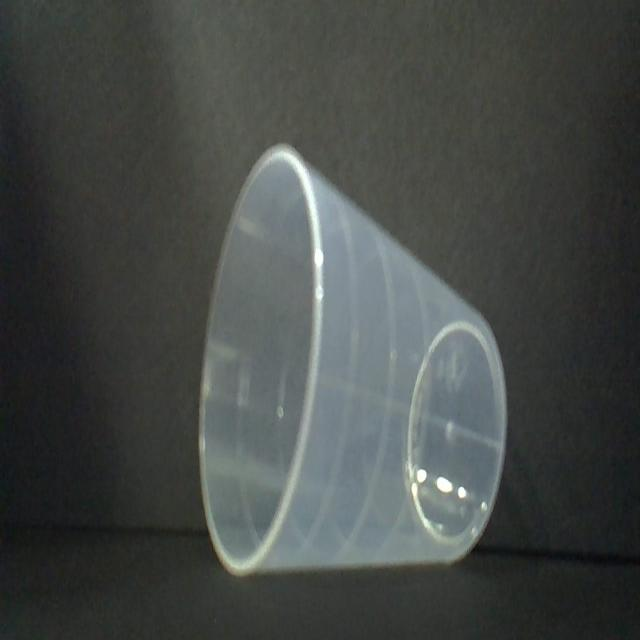cup: (196, 142, 509, 574)
